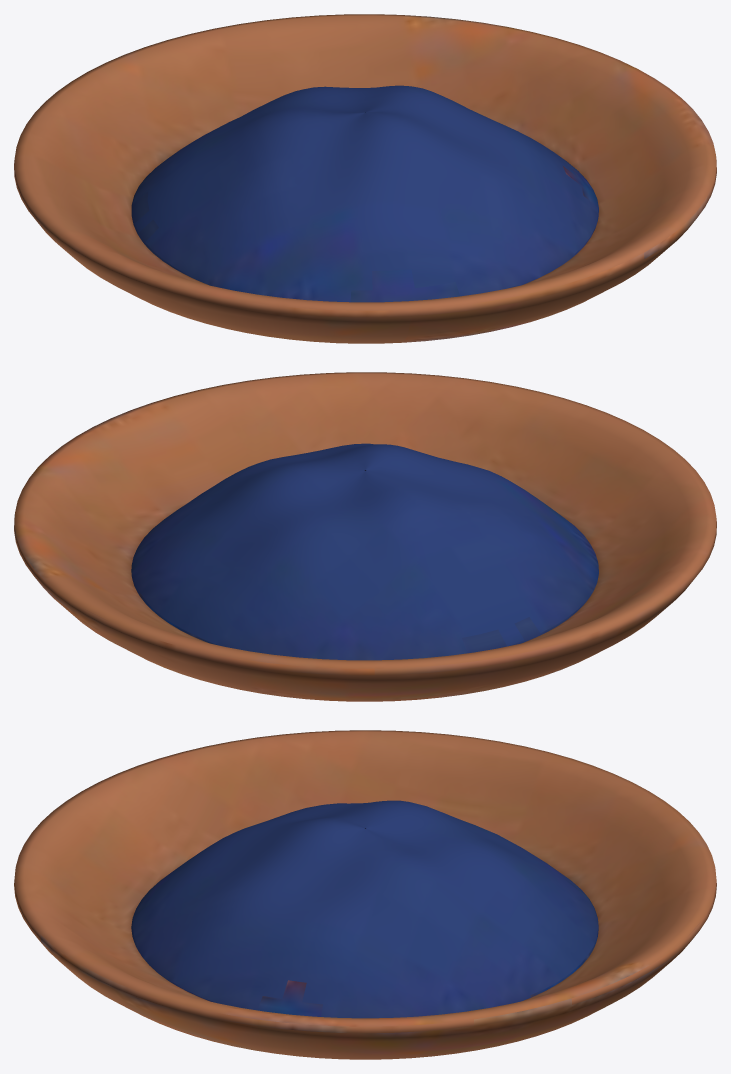
The model's file is woad_blue.glb.
The picture shows the model from 3 angles, top to bottom: view 1: azimuth 30°, elevation 25°; view 2: azimuth 150°, elevation 25°; view 3: azimuth 270°, elevation 25°; orthographic projection.
Visible parts, largest first — view 1: woad_blue; view 2: woad_blue; view 3: woad_blue.
Part boxes in pixels (x1,y1,x2,y2): woad_blue: (14,14,716,343); woad_blue: (14,372,716,701); woad_blue: (14,730,716,1059).
Bounding box in the file's own units: 0.0901 × 0.0216 × 0.0901.
1 material, 1 textured.
